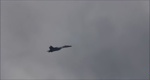maybay_muctieu: (46, 45, 73, 53)
